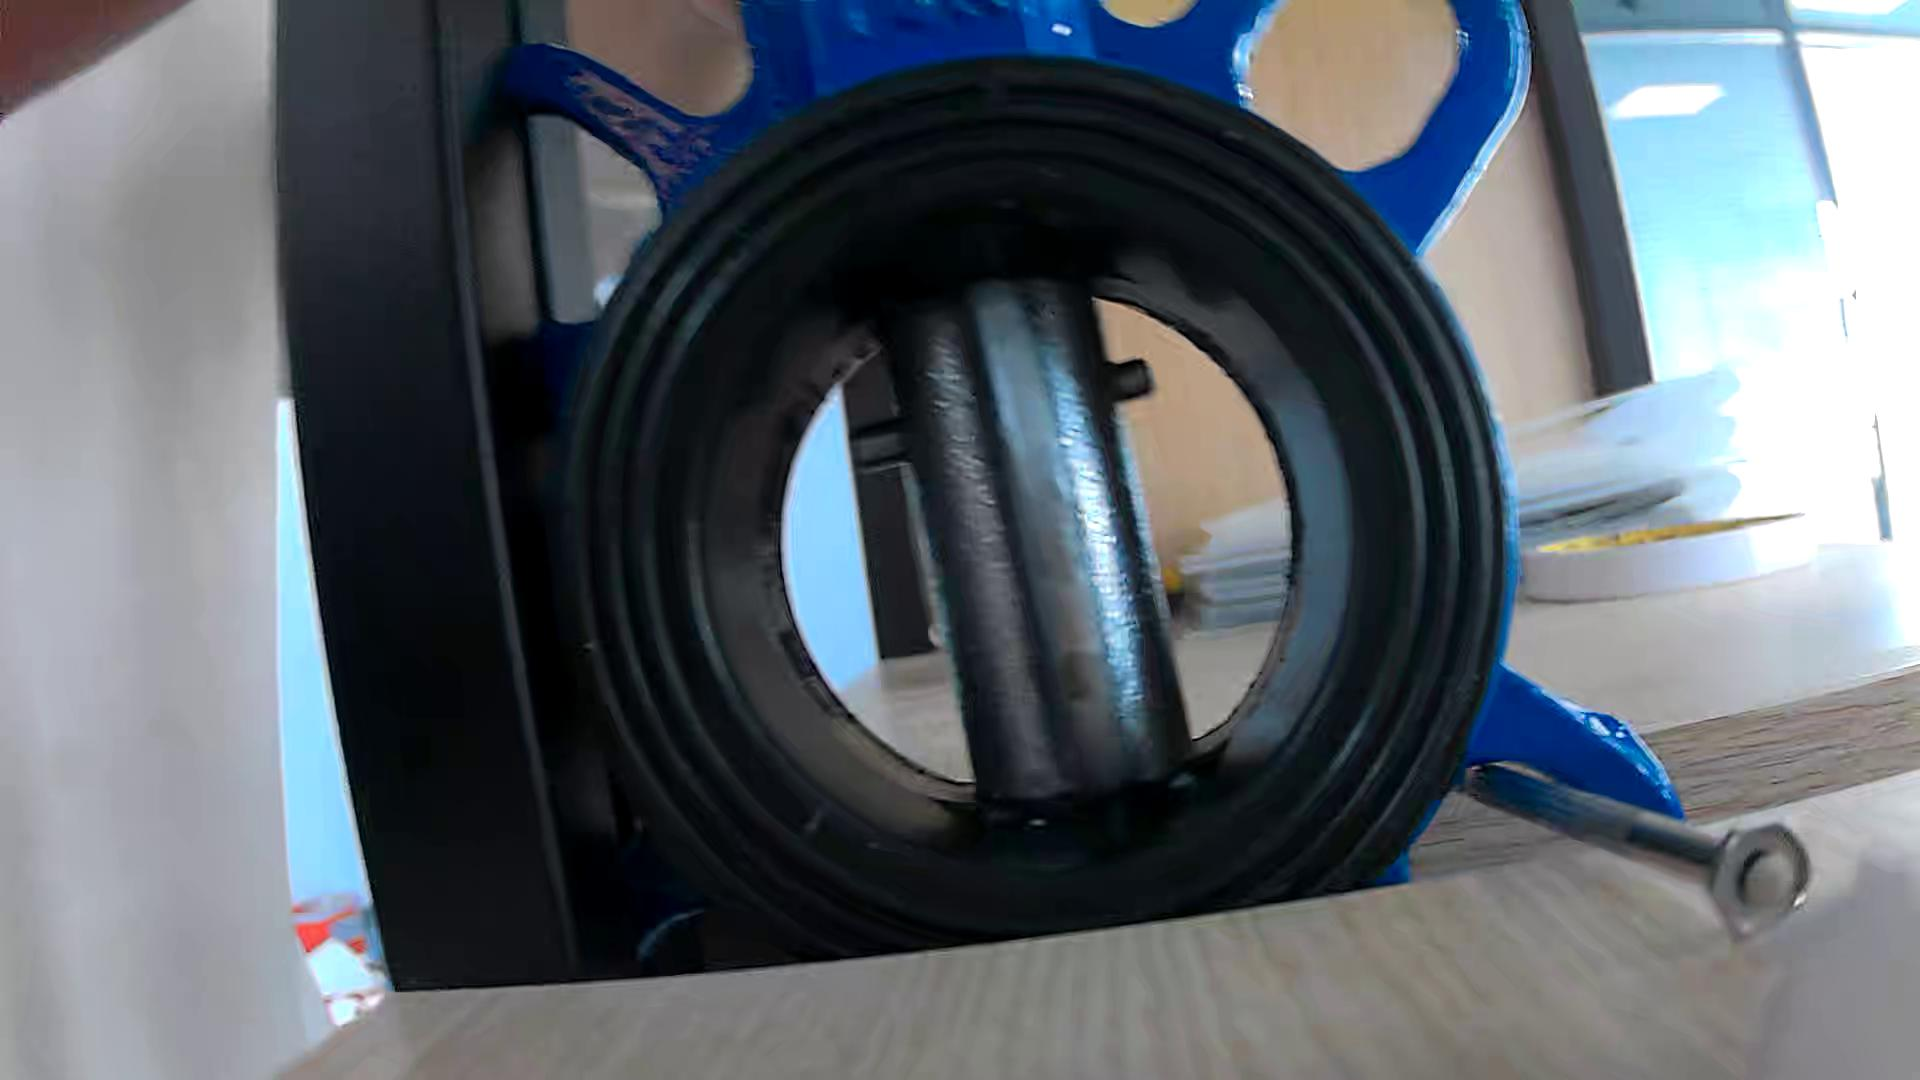valve: (893, 277, 1188, 803)
